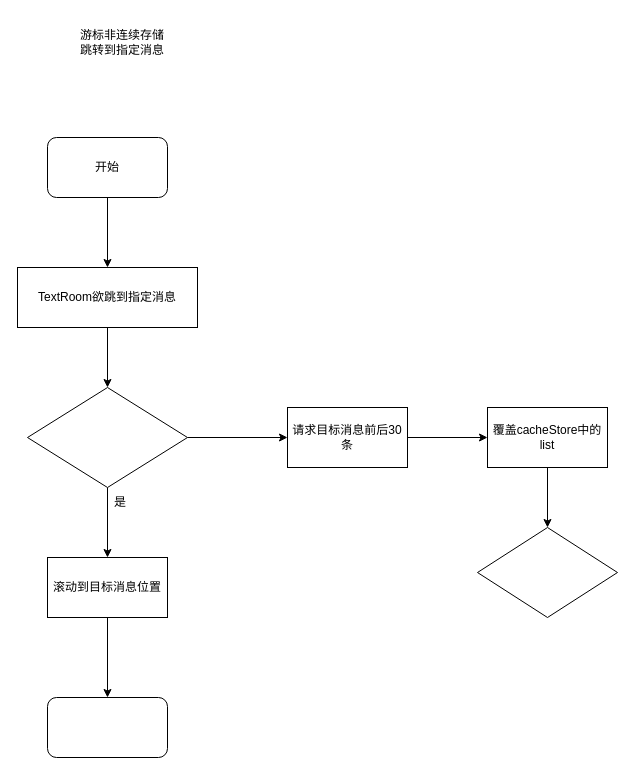
This 635x775 diagram has some shape labels left out. Here are the shapes that lost their labels. From the top down, the centre of each, then its label:
At (x=107, y=437): "目标消息已渲染？".
At (x=107, y=727): "结束".
